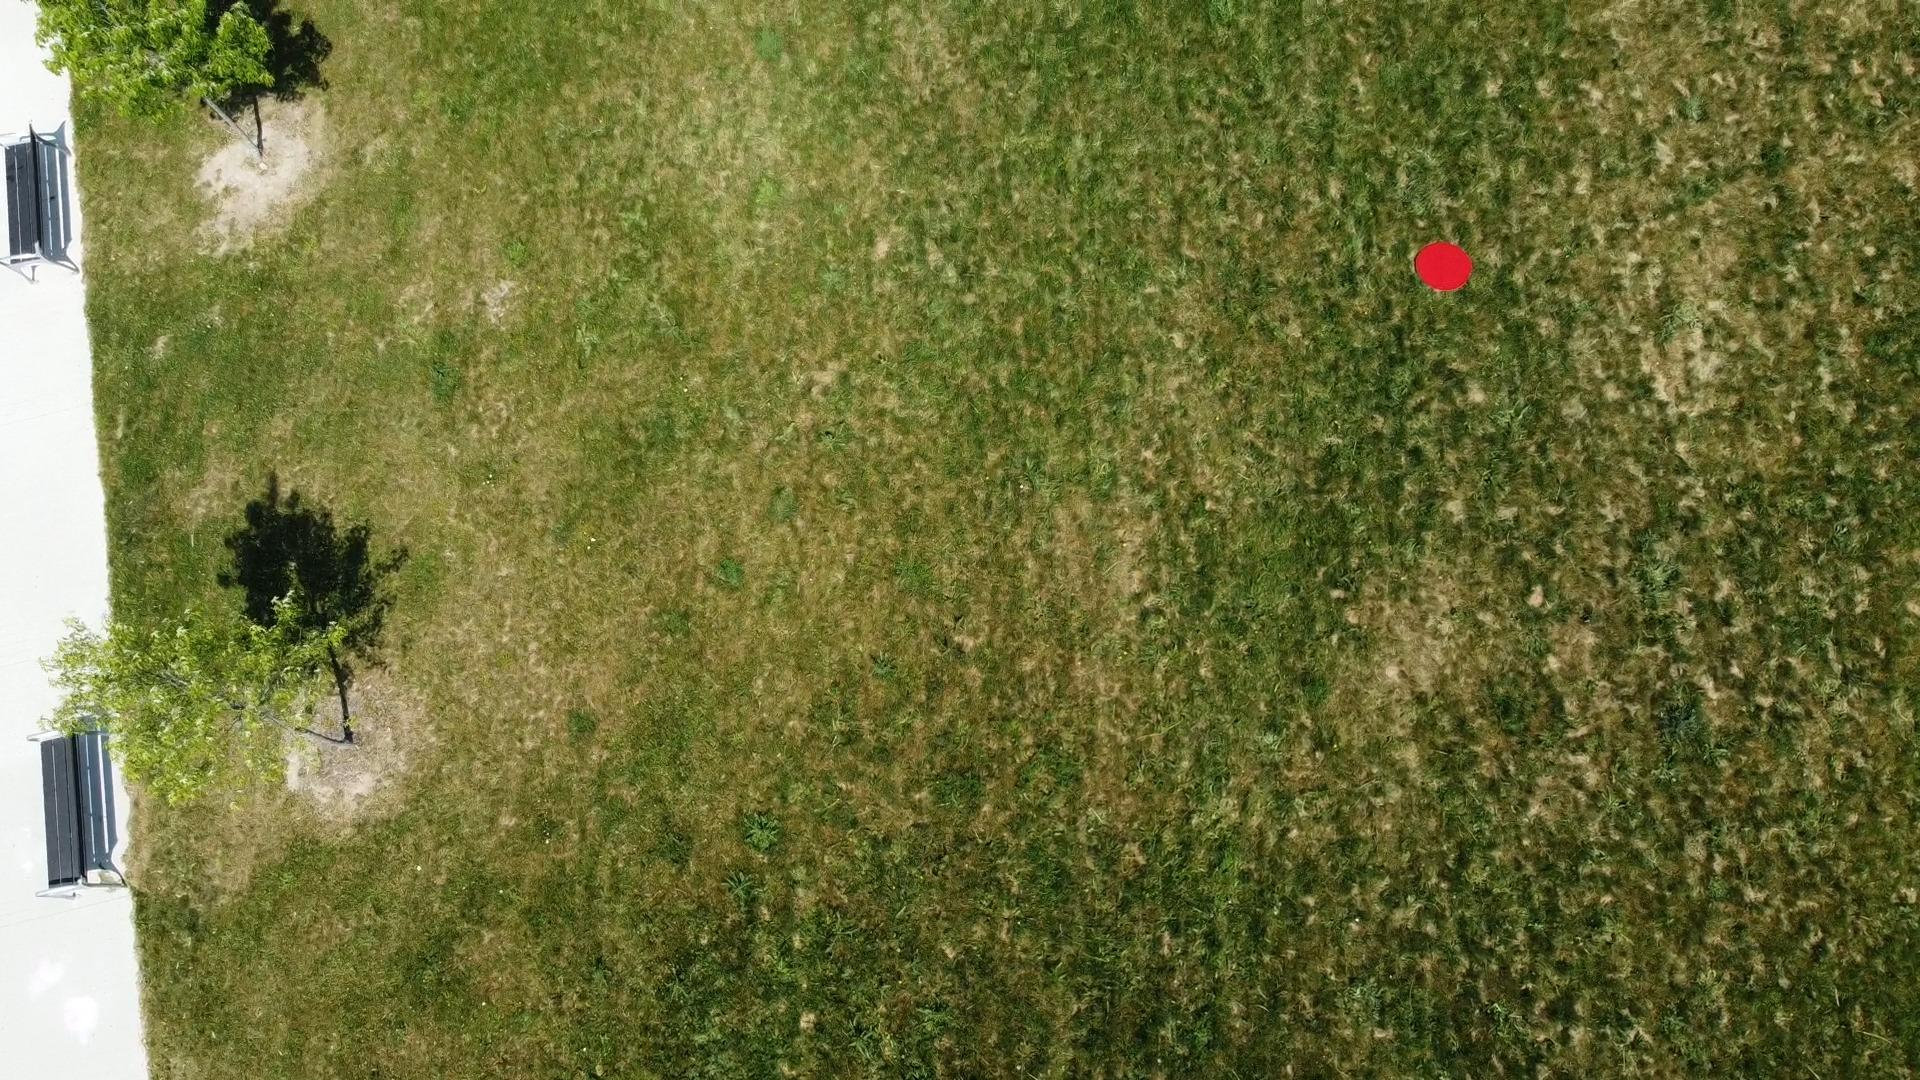Red: (1411, 239, 1476, 294)
